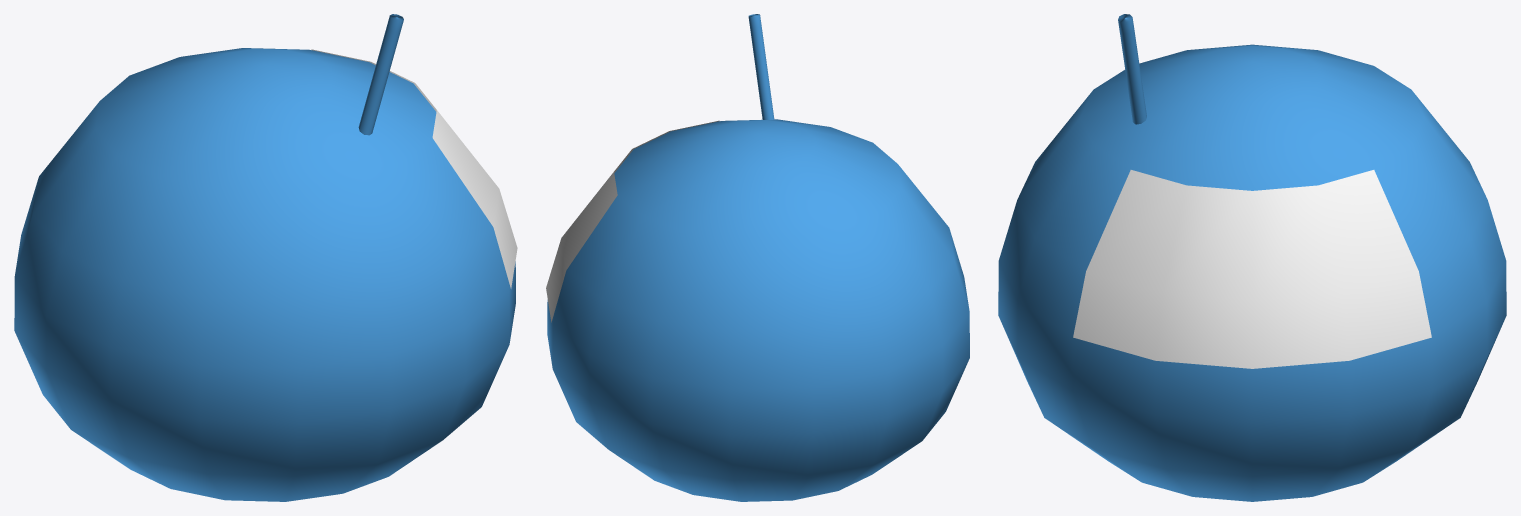
Rendered from creature_opaque.glb.
The picture shows the model from 3 angles, left to right: view 1: azimuth 30°, elevation 25°; view 2: azimuth 150°, elevation 25°; view 3: azimuth 270°, elevation 25°; orthographic projection. The views are drawn at different scales.
Visible parts, largest first — view 1: bod, czulek; view 2: bod, czulek; view 3: bod, czulek.
Part boxes in pixels (x1,y1,x2,y2): bod: [14, 48, 517, 501]; czulek: [358, 14, 403, 135]; bod: [546, 119, 969, 501]; czulek: [748, 14, 774, 119]; bod: [998, 44, 1506, 501]; czulek: [1118, 14, 1146, 124].
Bounding box in the file's own units: 1.24 × 1.29 × 1.23.
Materials: 2 (1 with a texture image).
